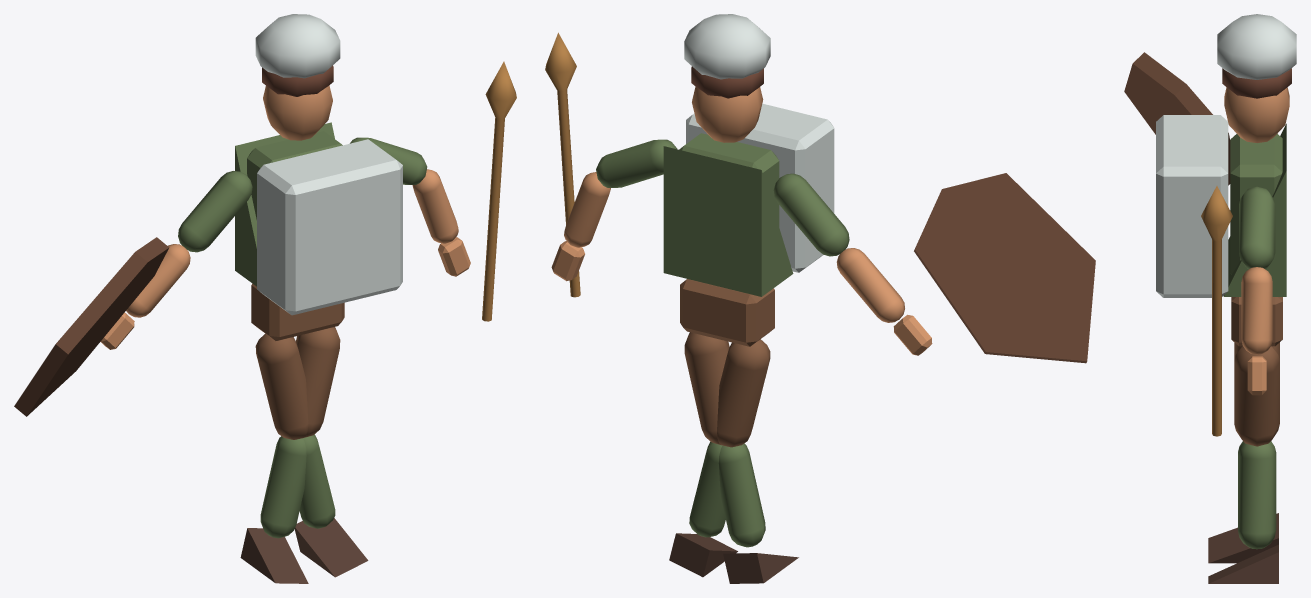
File: adventurer.rustic.glb
3 views of the same model, side by side, from view 1: azimuth 30°, elevation 25°; view 2: azimuth 150°, elevation 25°; view 3: azimuth 270°, elevation 25° (orthographic).
Visible parts, largest first — view 1: accessory.body, accessory.off-hand, accessory.head, thigh.left, shin.right, accessory.main-hand, upper-arm.left, thigh.right, head, pelvis, foot.left, tunic (+9 smaller); view 2: accessory.off-hand, tunic, accessory.body, pelvis, accessory.head, thigh.left, shin.right, upper-arm.left, thigh.right, head, accessory.main-hand, forearm.left (+9 smaller); view 3: accessory.body, accessory.head, shin.left, accessory.off-hand, thigh.right, torso, accessory.main-hand, upper-arm.right, head, forearm.right, tunic, foot.left (+4 smaller).
Part boxes in pixels (<box>): accessory.body: <box>257,139,402,315</box>; accessory.off-hand: <box>14,237,169,416</box>; accessory.head: <box>255,14,340,78</box>; thigh.left: <box>255,333,308,439</box>; shin.right: <box>260,436,306,538</box>; accessory.main-hand: <box>482,61,516,321</box>; upper-arm.left: <box>178,171,252,252</box>; thigh.right: <box>296,327,340,437</box>; head: <box>263,85,332,140</box>; pelvis: <box>251,283,344,340</box>; foot.left: <box>294,518,368,577</box>; tunic: <box>235,122,334,286</box>; accessory.off-hand: <box>914,173,1095,363</box>; tunic: <box>663,146,793,296</box>; accessory.body: <box>686,103,834,272</box>; pelvis: <box>680,279,774,346</box>; accessory.head: <box>684,14,770,79</box>; thigh.left: <box>717,339,770,447</box>; shin.right: <box>718,443,765,547</box>; upper-arm.left: <box>773,173,849,256</box>; thigh.right: <box>684,332,729,444</box>; head: <box>692,86,763,142</box>; accessory.main-hand: <box>545,32,580,297</box>; forearm.left: <box>836,248,904,322</box>; accessory.body: <box>1156,115,1228,297</box>; accessory.head: <box>1217,14,1296,79</box>; shin.left: <box>1238,442,1276,549</box>; accessory.off-hand: <box>1124,52,1230,185</box>; thigh.right: <box>1234,346,1279,446</box>; torso: <box>1230,134,1282,274</box>; accessory.main-hand: <box>1201,186,1232,436</box>; upper-arm.right: <box>1239,186,1275,269</box>; head: <box>1224,87,1289,142</box>; forearm.right: <box>1241,267,1272,354</box>; tunic: <box>1223,123,1286,296</box>; foot.left: <box>1208,544,1278,583</box>.
Size of the model in its own units: 3.16 by 3.18 by 0.9041.
